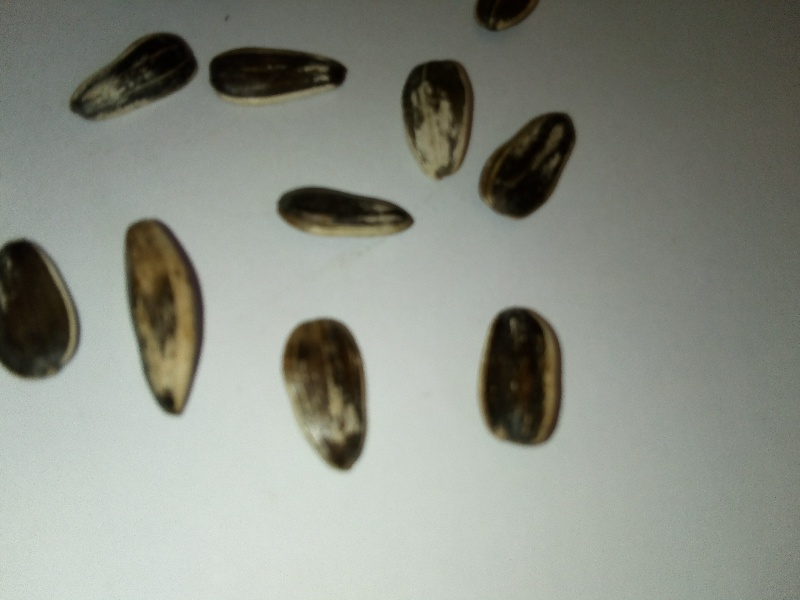girasol: (110, 209, 221, 421), (266, 306, 377, 482), (456, 296, 573, 462), (486, 103, 588, 226), (265, 178, 420, 250)
